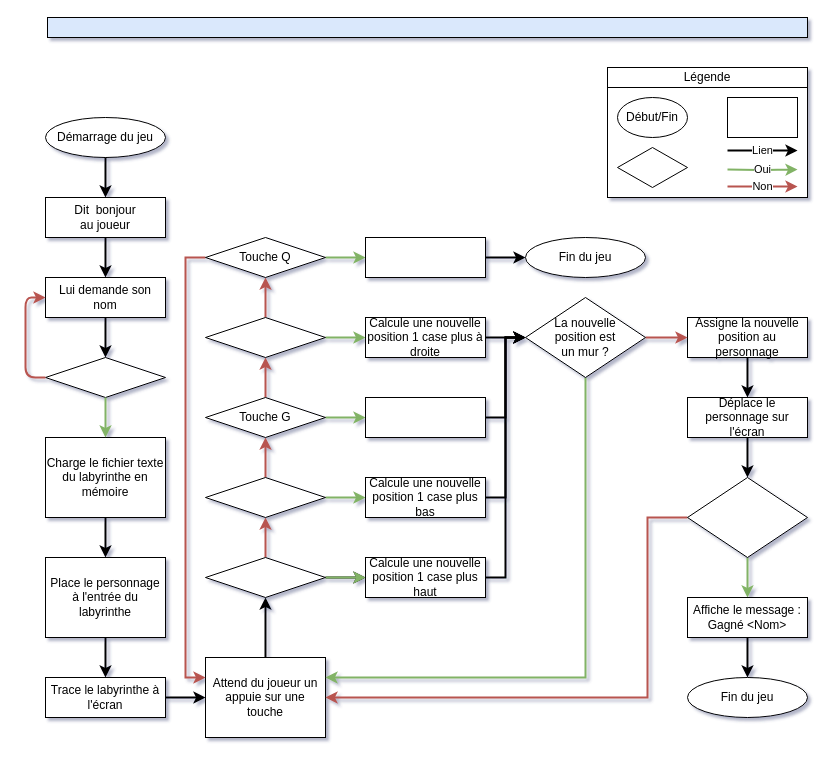
Image size: 831x761. Some labels were removed from this diagram. The centre of each missing label's shape, as x and y in pixels:
Action / Processus: pixel 762 117
Affiche le message : Perdu: pixel 425 257
Calcule une nouvelle position 1 case plus à gauche: pixel 425 417
Choix: pixel 652 167
La nouvelle position est la sortie ?: pixel 747 517
Labyrinthe v1.0 (diagramme de flux): pixel 427 27
Le nom est saisi ?: pixel 105 377
Touche B: pixel 265 497
Touche D: pixel 265 337
Touche H: pixel 265 577
